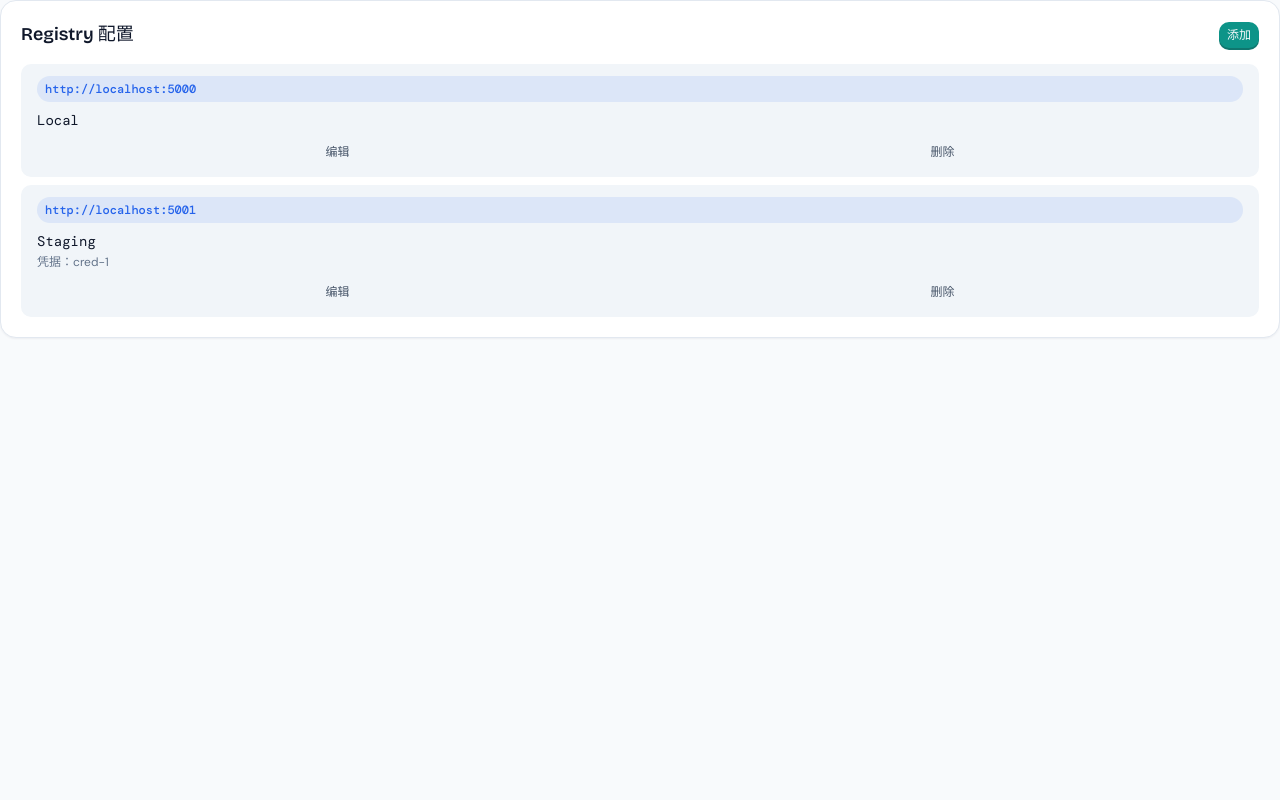
Test: RegistryProfileManager › displays duplicate URL error when editing a profile
Click the button with test id "rm-profile-edit-button" below "http://localhost:5000".
click(338, 152)  # box [37,139,638,165]
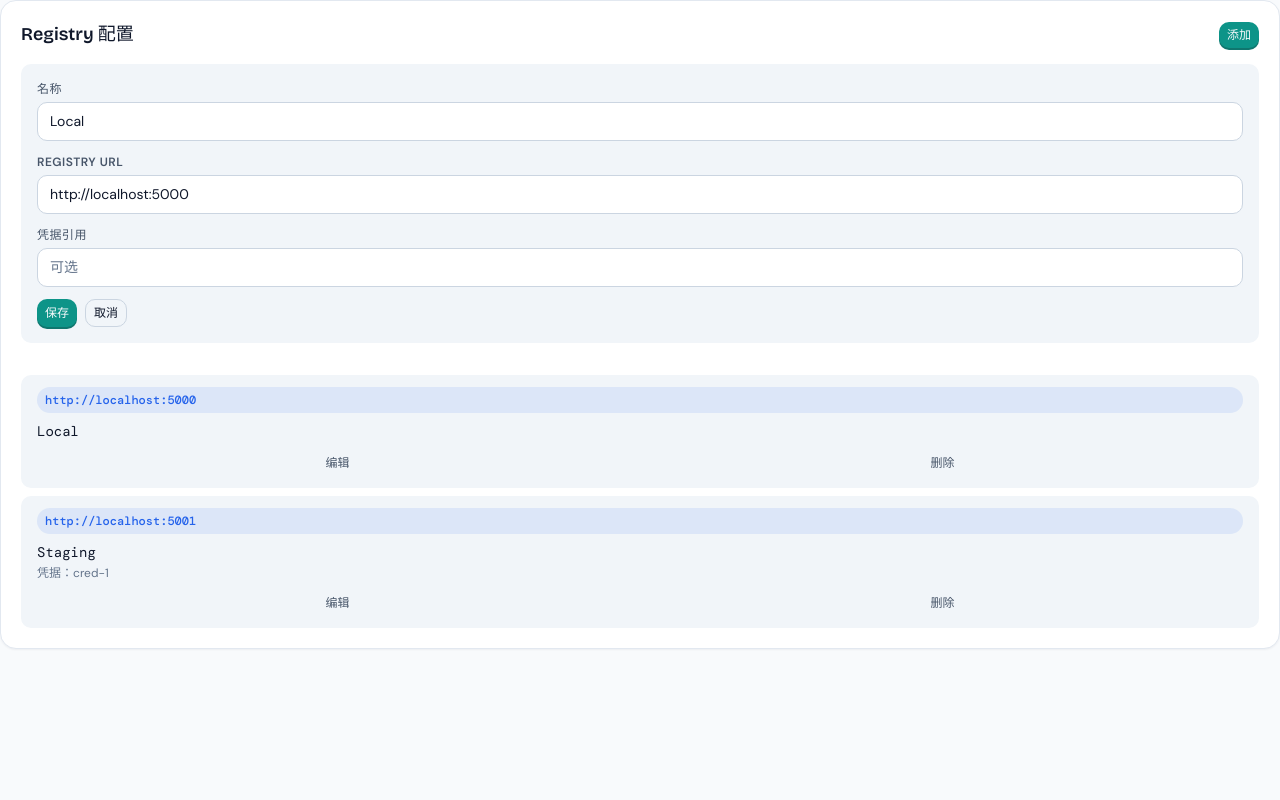
Type "http://localhost:5001" into the field with test id "rm-profile-url-input".
click(640, 194); type("http://localhost:5001")  # box [37,175,1243,214]
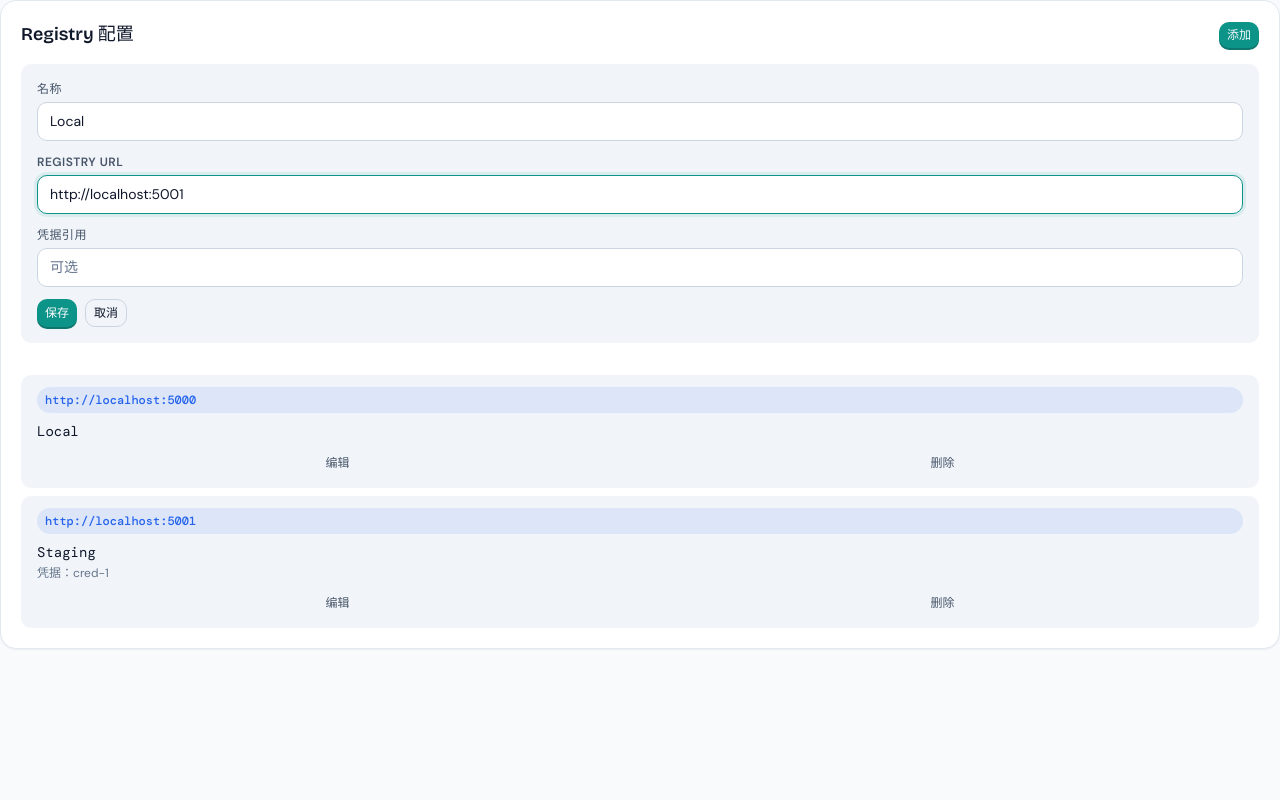
Click the button with test id "rm-profile-save-button".
click(57, 313)  # box [37,299,77,327]
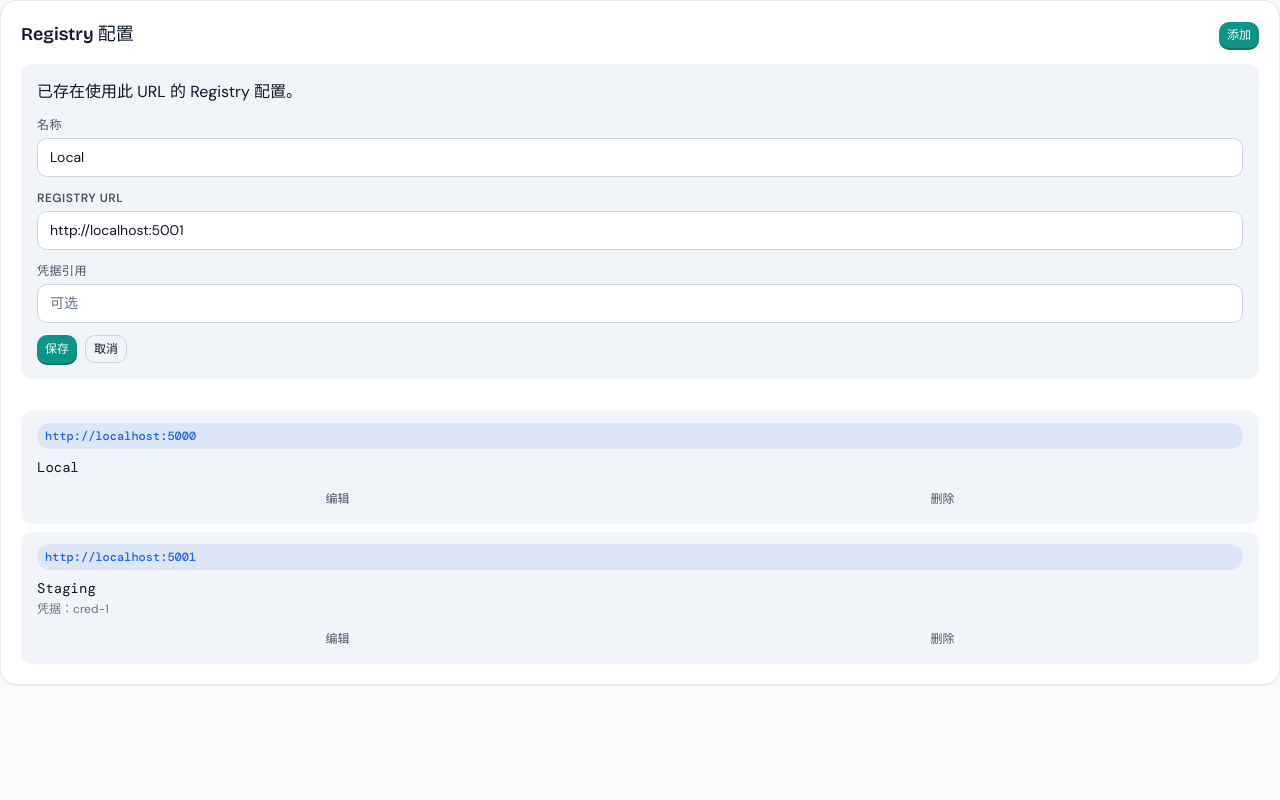
Now the form with test id "rm-profile-form" is shown, box [21,64,1259,379]
Now the message with test id "rm-profile-error" reads "已存在使用此 URL 的 Registry 配置。", box [37,81,302,102]
